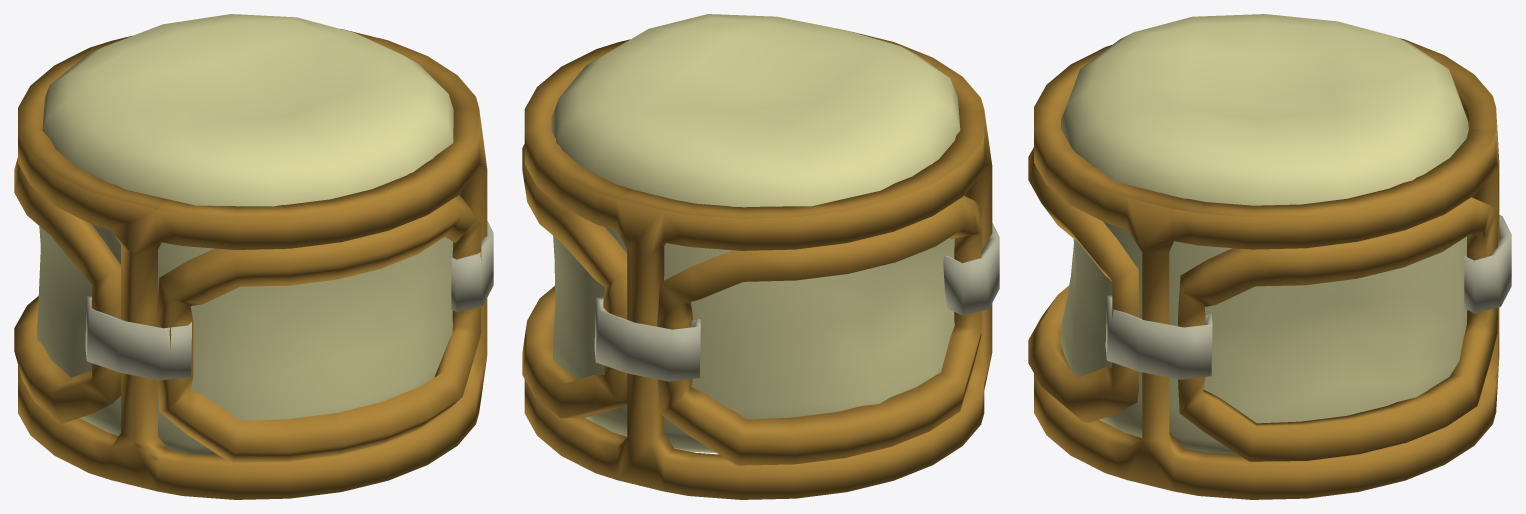
Rendered from LinenRoundChair.fbx.
The picture shows the model from 3 angles, left to right: view 1: azimuth 30°, elevation 25°; view 2: azimuth 150°, elevation 25°; view 3: azimuth 270°, elevation 25°; orthographic projection.
Visible parts, largest first — view 1: LinenRoundChair; view 2: LinenRoundChair; view 3: LinenRoundChair.
Boxes of the visible parts, x1,y1,x2,y2 form: LinenRoundChair: (14,14,493,499); LinenRoundChair: (522,14,999,499); LinenRoundChair: (1028,14,1511,499).
Size of the model in its own units: 45.06 by 34.05 by 46.15.
